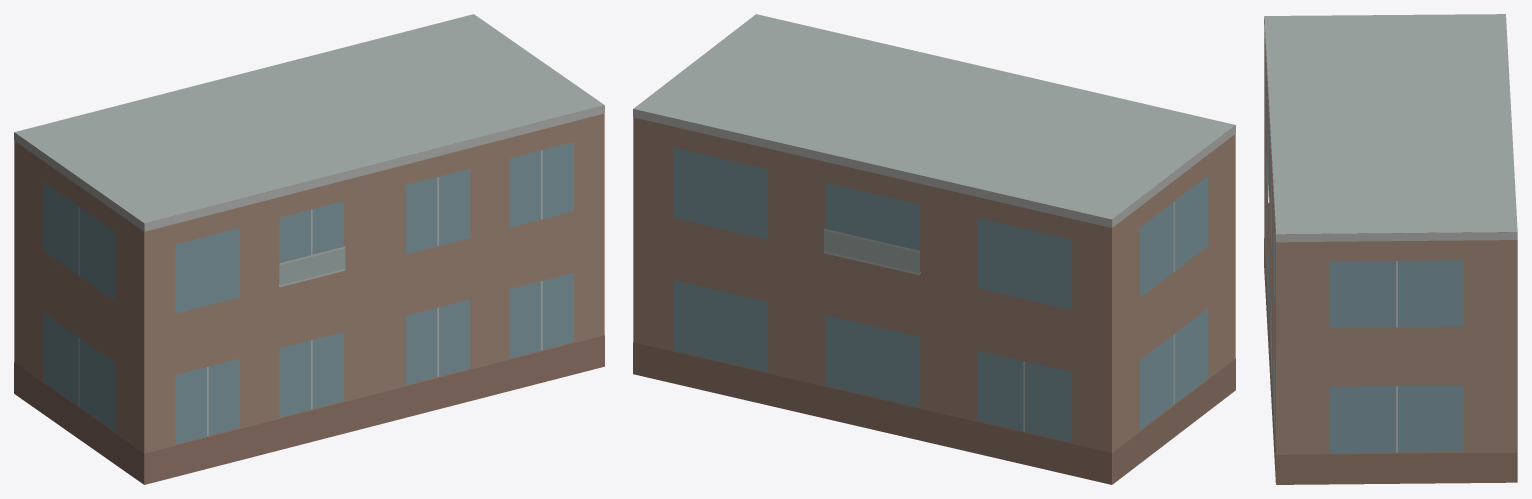
File: survey-upis-32635953.glb
3 renders of one model, left to right at view 1: azimuth 30°, elevation 25°; view 2: azimuth 150°, elevation 25°; view 3: azimuth 270°, elevation 25°, orthographic. The views are drawn at different scales.
Parts seen in each view (by area): view 1: survey-upis-32635953.tmp; view 2: survey-upis-32635953.tmp; view 3: survey-upis-32635953.tmp.
Part boxes in pixels (bbox=[...]): survey-upis-32635953.tmp: bbox=[14, 14, 604, 484]; survey-upis-32635953.tmp: bbox=[633, 14, 1235, 484]; survey-upis-32635953.tmp: bbox=[1264, 14, 1517, 484].
Bounding box in the file's own units: 14.33 × 7.6 × 6.98.
